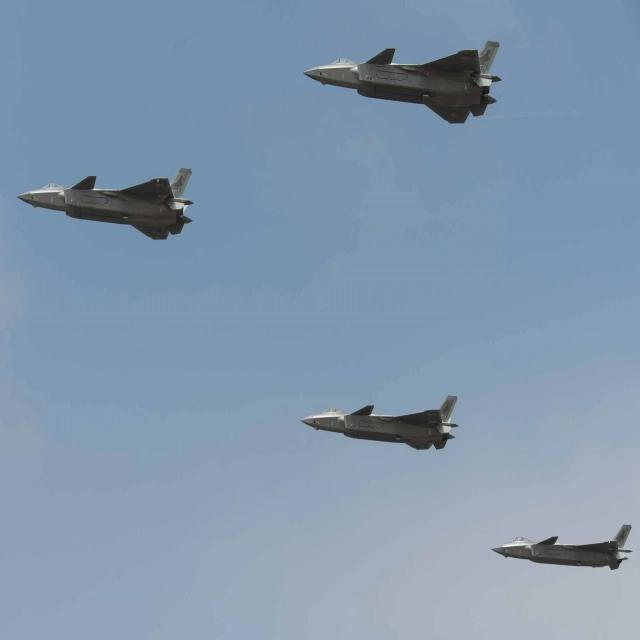MIL_Plane: (302, 40, 502, 124), (16, 167, 194, 240), (300, 394, 459, 450), (490, 524, 633, 570)
